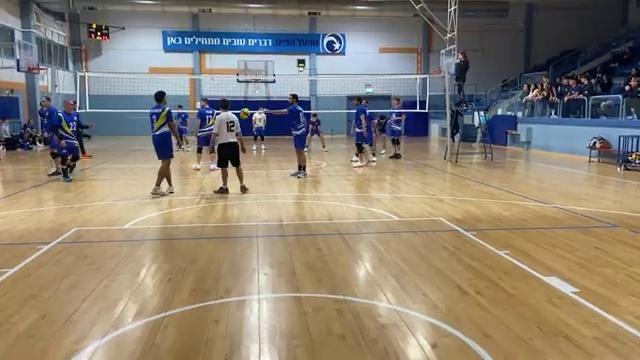ball: (236, 107, 251, 119)
